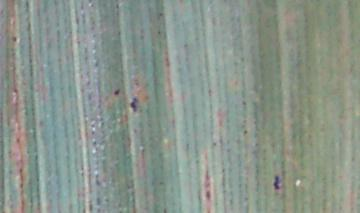tarspot: (202, 165, 211, 201), (129, 95, 139, 116), (162, 47, 172, 67), (271, 172, 281, 191), (11, 86, 19, 101), (93, 171, 101, 185), (206, 86, 213, 99), (94, 193, 100, 207), (13, 135, 22, 144), (239, 98, 248, 107), (156, 25, 162, 37), (10, 34, 18, 43), (113, 1, 121, 10), (241, 127, 248, 137), (112, 88, 120, 96), (157, 9, 164, 17), (157, 179, 165, 186), (116, 29, 122, 38), (210, 140, 217, 147), (162, 207, 167, 213)
